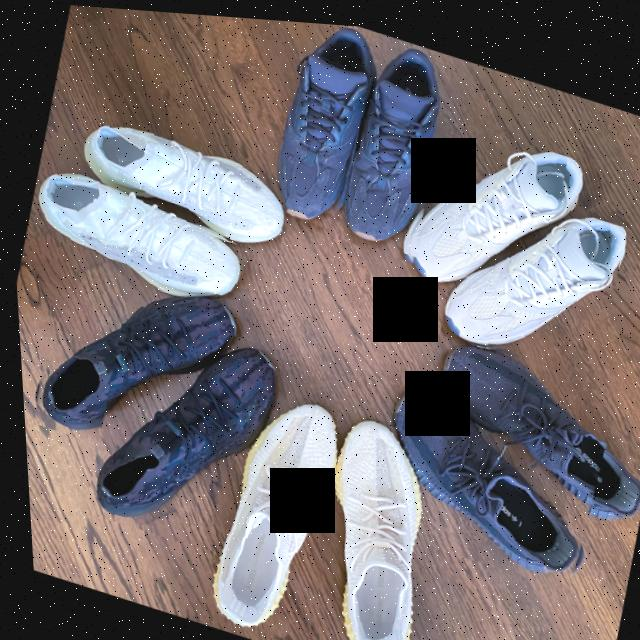shoe: (69, 296, 299, 565), (12, 239, 256, 481), (356, 369, 608, 589), (399, 309, 640, 522), (183, 372, 363, 640), (277, 400, 456, 640), (428, 169, 632, 378), (65, 91, 299, 253), (20, 156, 256, 314), (400, 107, 574, 307), (325, 27, 467, 261), (257, 15, 391, 232)
